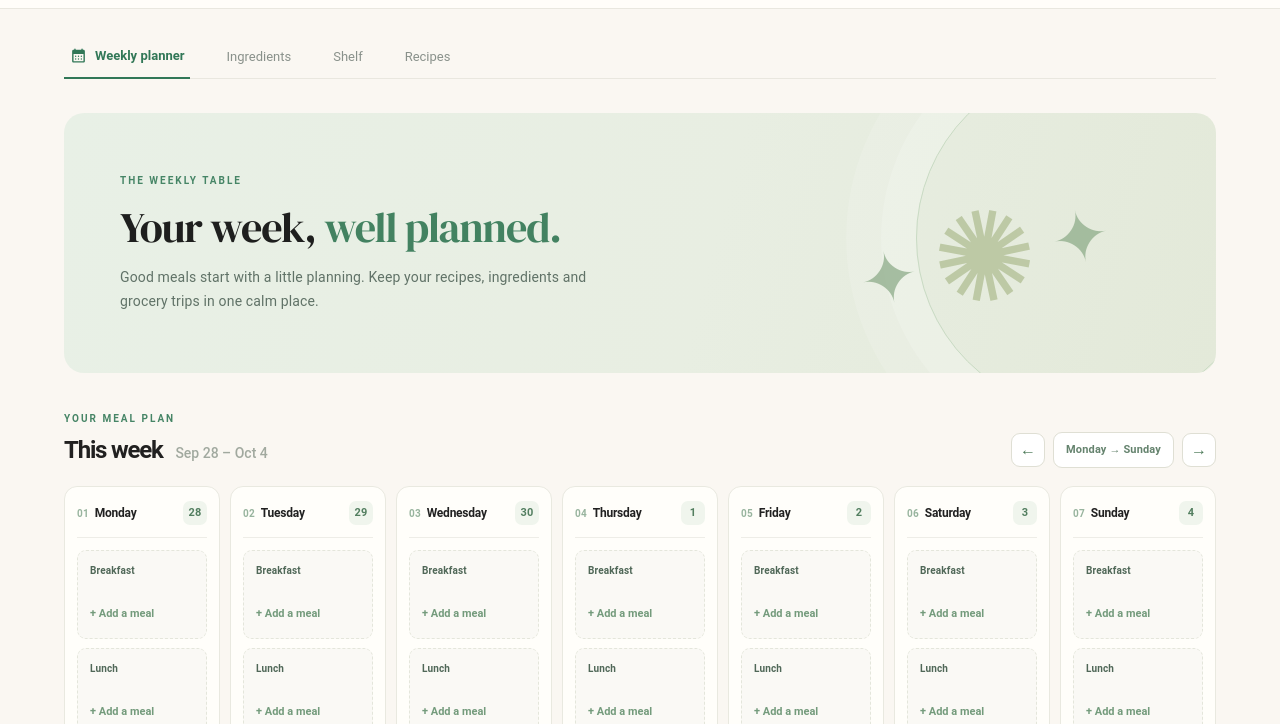
Test case: weekly meal planner › opens the ingredient catalog and displays nutrition and freezer suitability
Click the button "Ingredients": (259, 56) top-left (220, 34), bottom-right (297, 78)
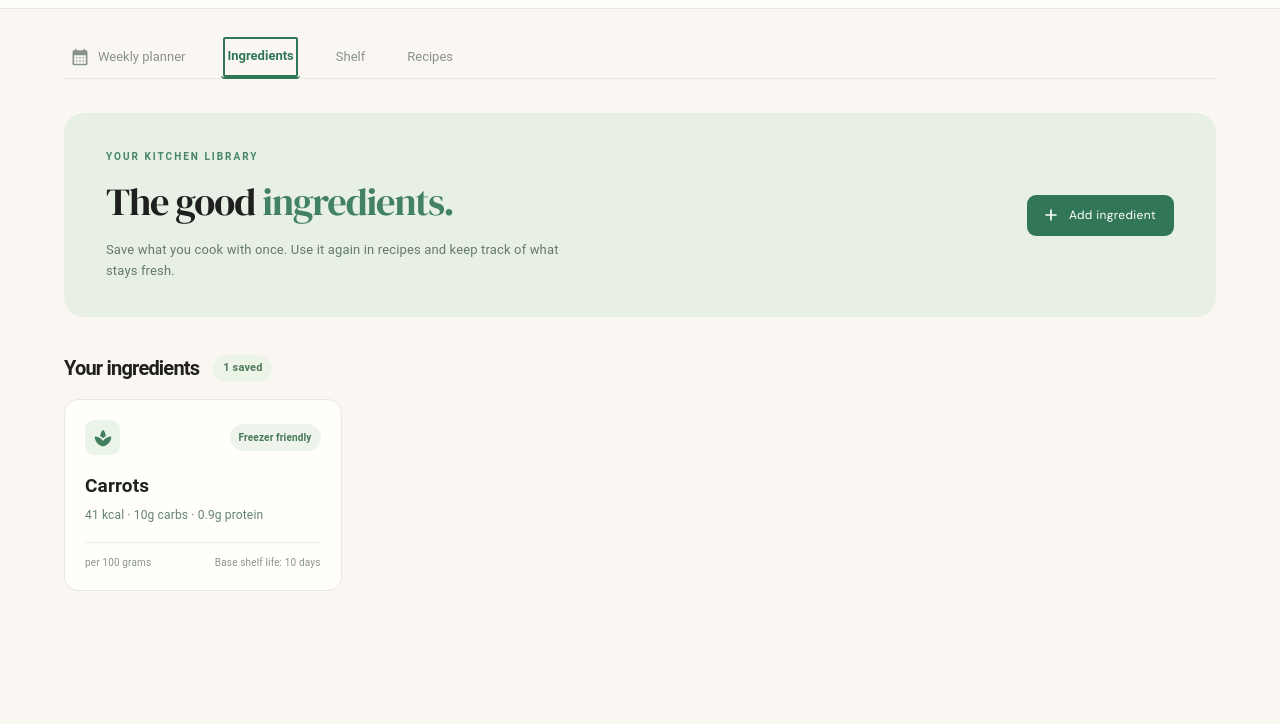
expect the heading "Carrots" is shown: met, box top-left (85, 474), bottom-right (149, 498)
expect the text "41 kcal · 10g carbs · 0.9g protein" is shown: met, box top-left (85, 508), bottom-right (263, 522)
expect the text "Freezer friendly" is shown: met, box top-left (230, 424), bottom-right (320, 452)
Click the button "Weekly planner": (128, 56) top-left (64, 34), bottom-right (192, 78)
(page scrolled)
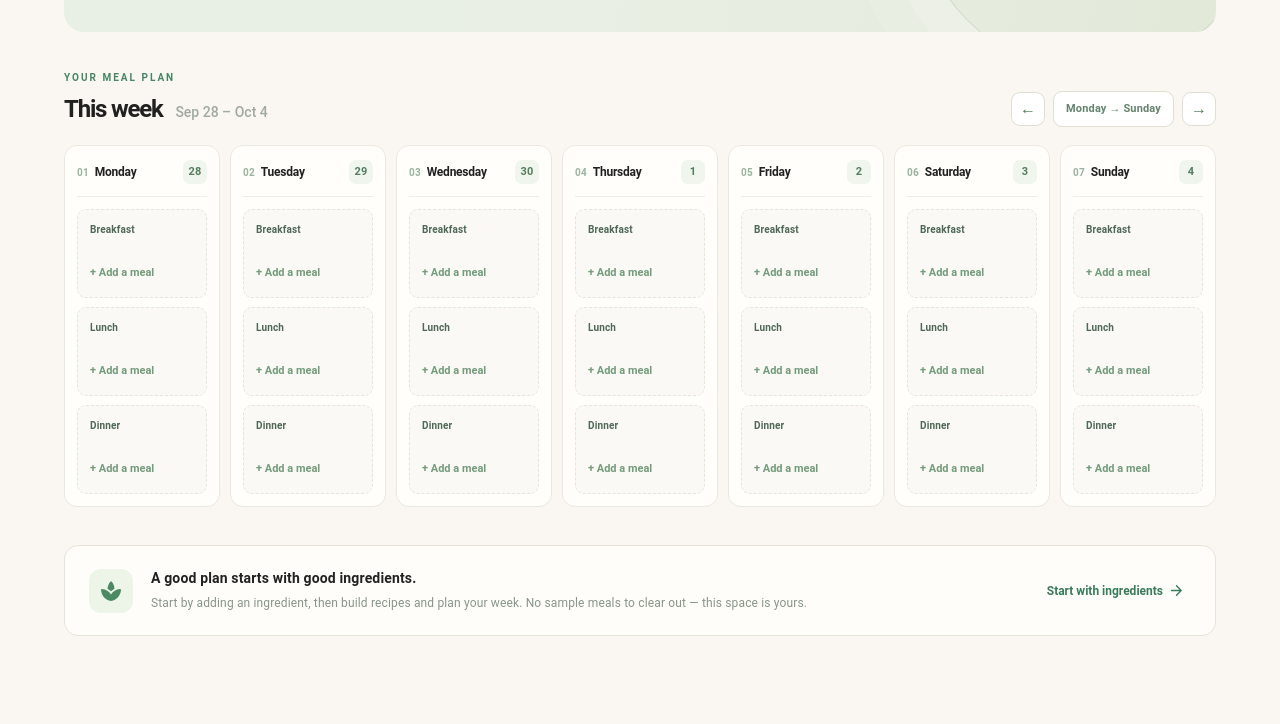
expect the element named "weekly meal calendar" is shown: met, box top-left (64, 145), bottom-right (1216, 521)
